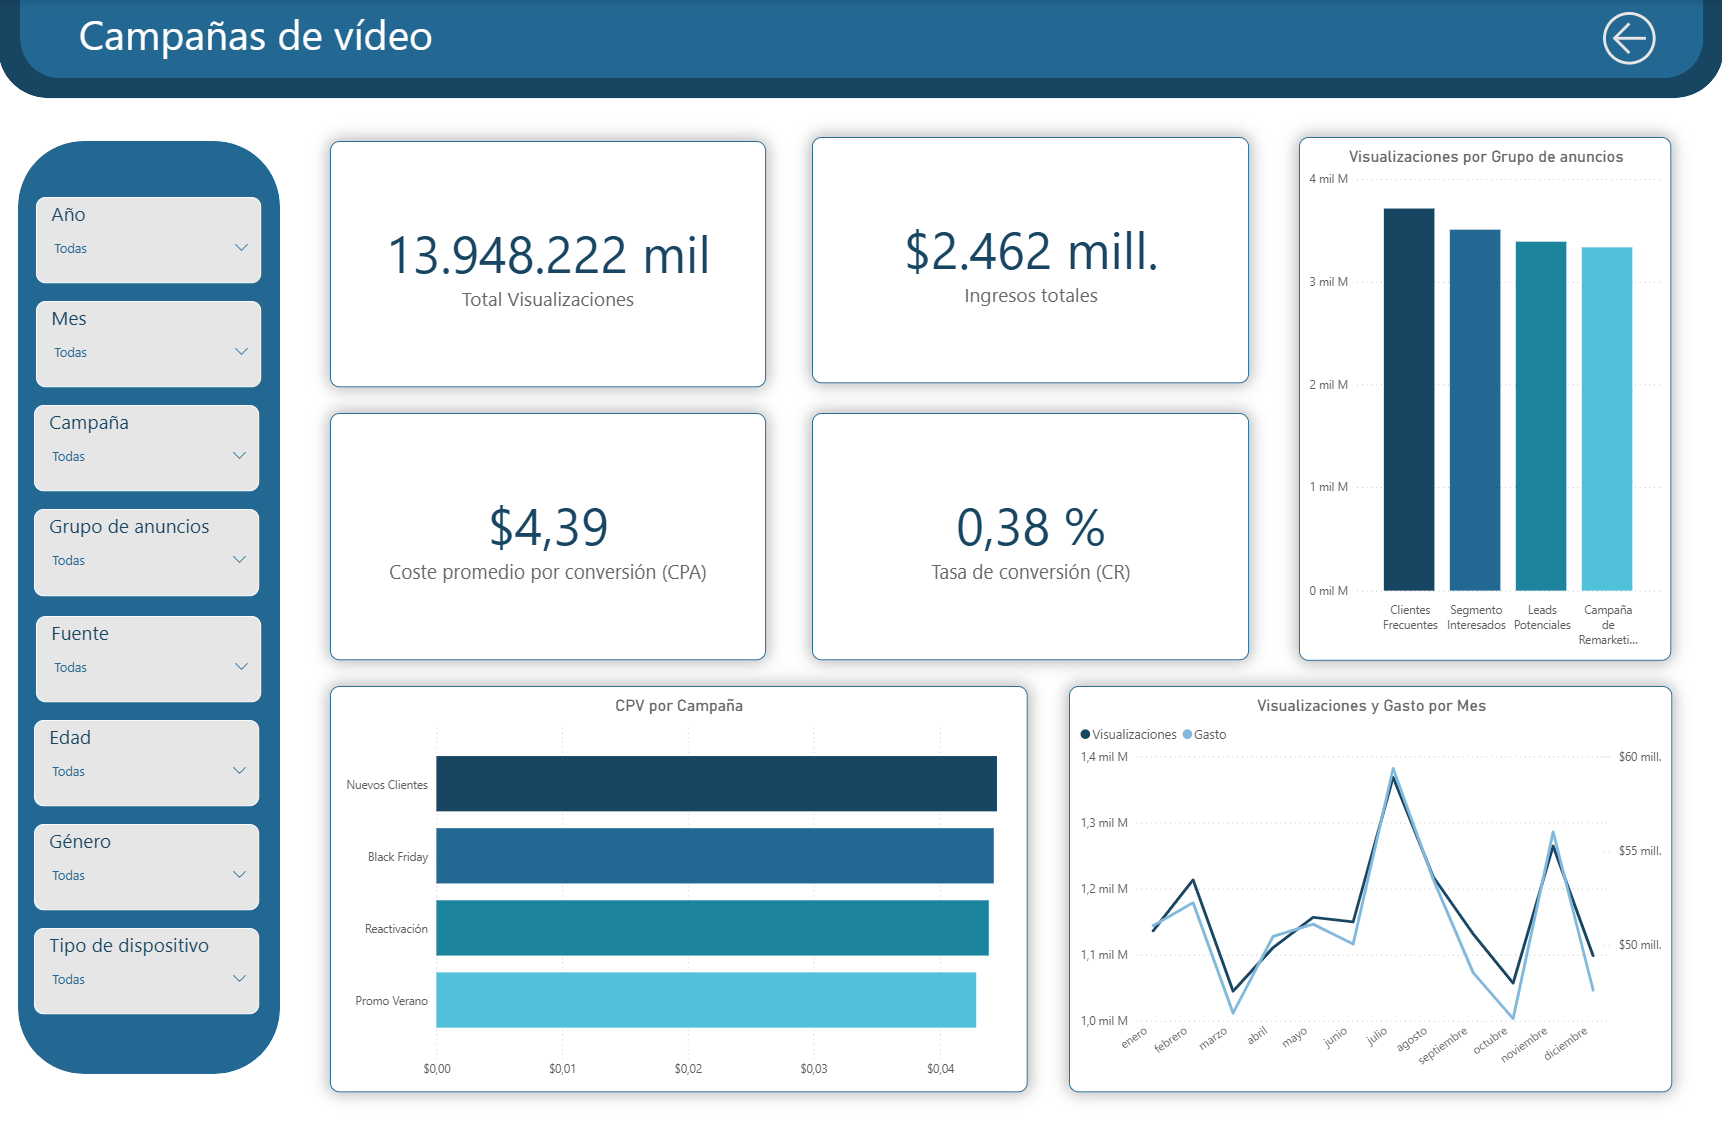

What the dashboard file says about the page in this screenshot:
{"tool":"powerbi","page":{"name":"Campañas de vídeo","canvas":[1800,1200],"ordinal":2},"visuals":[{"type":"shape","box":[0,0,1800,103.4],"z":0},{"type":"shape","box":[22.2,0,1755.7,82.8],"z":1000},{"type":"textbox","box":[79.8,3,638.4,70.9],"z":2000},{"type":"shape","box":[20.7,147.8,273.4,972.4],"z":3000},{"type":"slicer","fields":{"Values":["Calendario.Nombre del mes"]},"box":[39.9,315.7,235,90.1],"z":4000},{"type":"slicer","fields":{"Values":["Dim_Fuente.Dimensión: Fuente"]},"box":[39.9,641.8,235,90.1],"z":5000},{"type":"slicer","fields":{"Values":["Dim_Campaña.Campaña: Nombre de campaña"]},"box":[38.4,424.5,235,90],"z":6000},{"type":"slicer","fields":{"Values":["Dim_Grupo.Grupo de anuncios"]},"box":[38.4,533.2,235,90],"z":7000},{"type":"slicer","fields":{"Values":["Calendario.Año"]},"box":[39.9,206.9,235,90.1],"z":8000},{"type":"slicer","fields":{"Values":["Dim_Audiencia.Audiencia: Edad"]},"box":[38.4,750.7,235,90],"z":9000},{"type":"slicer","fields":{"Values":["Dim_Audiencia.Audiencia: Género"]},"box":[38.4,859.3,235,90],"z":10000},{"type":"slicer","fields":{"Values":["Dim_Dispositivo.Audiencia: Tipo de dispositivo"]},"box":[38.4,968,235,90],"z":11000},{"type":"card","title":"Ingresos totales","fields":{"Values":["Medidas.Total Visualizaciones"]},"box":[347.3,147.8,455.2,257.1],"z":12000},{"type":"card","title":"Ingresos totales","fields":{"Values":["Medidas.Total Ingresos"]},"box":[849.8,144.8,455.2,257.1],"z":13000},{"type":"card","title":"Ingresos totales","fields":{"Values":["Medidas.CPA"]},"box":[347.3,433,455.2,257.1],"z":14000},{"type":"card","title":"Ingresos totales","fields":{"Values":["Medidas.CR"]},"box":[849.8,433,455.2,257.1],"z":15000},{"type":"lineChart","fields":{"Category":["Calendario.Date.Variación.Jerarquía de fechas.Año","Calendario.Date.Variación.Jerarquía de fechas.Trimestre","Calendario.Date.Variación.Jerarquía de fechas.Mes","Calendario.Date.Variación.Jerarquía de fechas.Día"],"Y":["Medidas.Total Visualizaciones"],"Y2":["Medidas.Total Gasto"]},"box":[1115.8,716.7,629.6,424.1],"z":16000},{"type":"clusteredBarChart","fields":{"Category":["Dim_Campaña.Campaña: Nombre de campaña"],"Y":["Medidas.CPV"]},"box":[347.3,716.7,727.1,424.1],"z":17000},{"type":"columnChart","fields":{"Y":["Medidas.Total Visualizaciones"],"Category":["Dim_Grupo.Grupo de anuncios"]},"box":[1356.7,144.8,388.7,545.3],"z":18000},{"type":"actionButton","box":[1631.5,5.9,168.5,69.5],"z":19000}]}

Visuals, with their boxes in screenshot pixels (x1, y1, x2, y2), scaled from the page's 1800x1200 canvas onto the 1722x1148 screenshot:
shape: bbox=[0, 0, 1721, 99]
shape: bbox=[21, 0, 1701, 79]
textbox: bbox=[76, 3, 687, 71]
shape: bbox=[20, 141, 281, 1072]
slicer - Calendario.Nombre del mes: bbox=[38, 302, 263, 388]
slicer - Dim_Fuente.Dimensión: Fuente: bbox=[38, 614, 263, 700]
slicer - Dim_Campaña.Campaña: Nombre de campaña: bbox=[37, 406, 262, 492]
slicer - Dim_Grupo.Grupo de anuncios: bbox=[37, 510, 262, 596]
slicer - Calendario.Año: bbox=[38, 198, 263, 284]
slicer - Dim_Audiencia.Audiencia: Edad: bbox=[37, 718, 262, 804]
slicer - Dim_Audiencia.Audiencia: Género: bbox=[37, 822, 262, 908]
slicer - Dim_Dispositivo.Audiencia: Tipo de dispositivo: bbox=[37, 926, 262, 1012]
"Ingresos totales" card: bbox=[332, 141, 768, 387]
"Ingresos totales" card: bbox=[813, 139, 1248, 384]
"Ingresos totales" card: bbox=[332, 414, 768, 660]
"Ingresos totales" card: bbox=[813, 414, 1248, 660]
lineChart - Calendario.Date.Variación.Jerarquía de fechas.Año x Calendario.Date.Variación.Jerarquía de fechas.Trimestre: bbox=[1067, 686, 1670, 1091]
clusteredBarChart - Dim_Campaña.Campaña: Nombre de campaña x Medidas.CPV: bbox=[332, 686, 1028, 1091]
columnChart - Medidas.Total Visualizaciones x Dim_Grupo.Grupo de anuncios: bbox=[1298, 139, 1670, 660]
actionButton: bbox=[1561, 6, 1721, 72]
